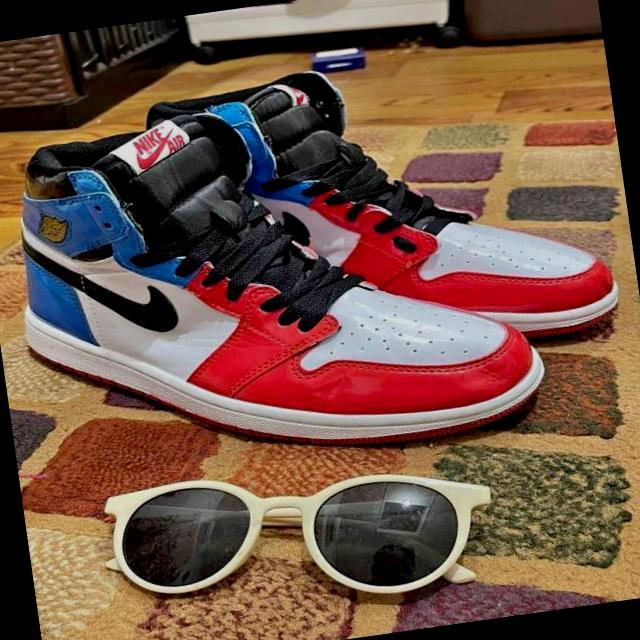nike_fake_jordan: (0, 62, 557, 495), (146, 34, 627, 390)
